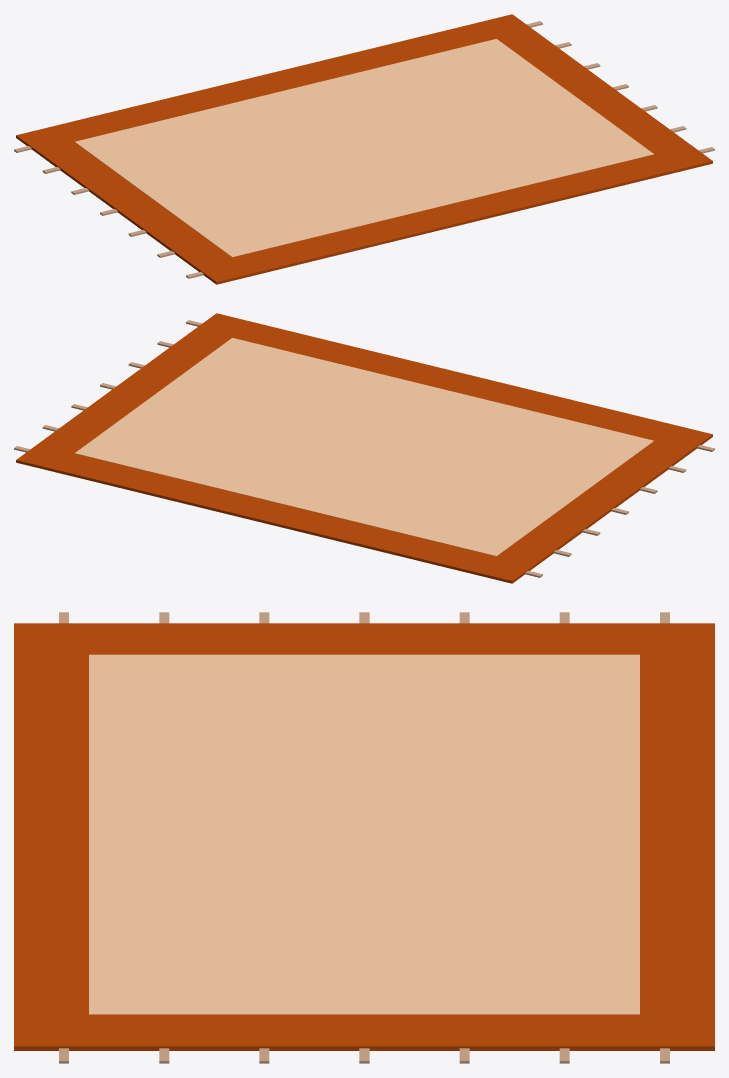
File: Rug.fbx
3 views of the same model, one above another, from view 1: azimuth 30°, elevation 25°; view 2: azimuth 150°, elevation 25°; view 3: azimuth 270°, elevation 25° (orthographic). The views are drawn at different scales.
Visible parts, largest first — view 1: Rug; view 2: Rug; view 3: Rug.
Part boxes in pixels (x1,y1,x2,y2): Rug: [14, 14, 714, 284]; Rug: [14, 313, 714, 583]; Rug: [14, 612, 714, 1063].
Size of the model in its own units: 2.12 by 0.011 by 1.4.
